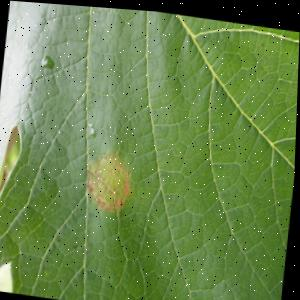Folha: (0, 0, 300, 300)
Fungo: (85, 144, 137, 214), (125, 179, 131, 193), (117, 196, 124, 205)
